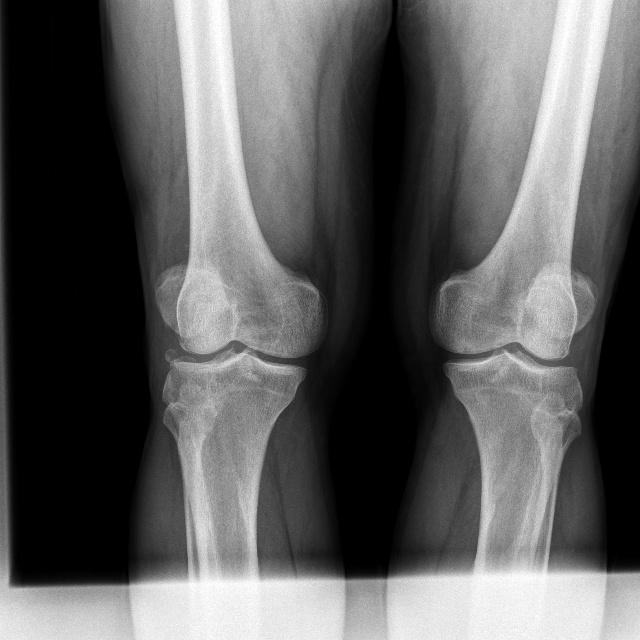Knee: (149, 249, 325, 438), (432, 265, 596, 447)
